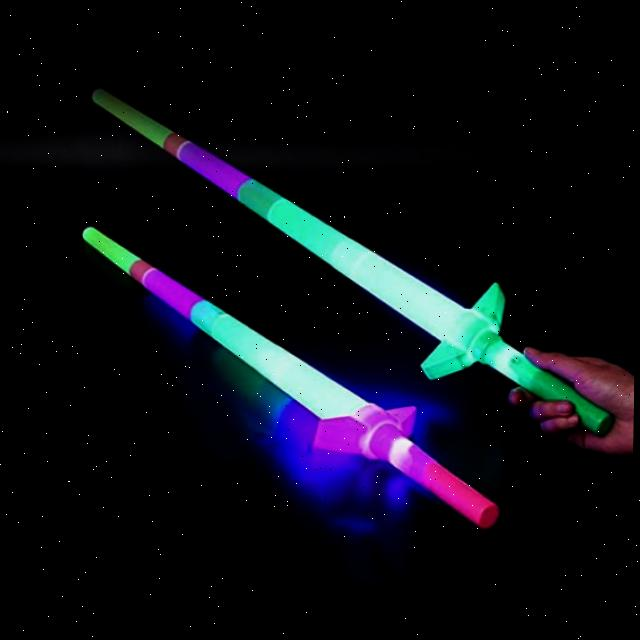knife: (84, 74, 624, 444), (71, 218, 495, 538)
